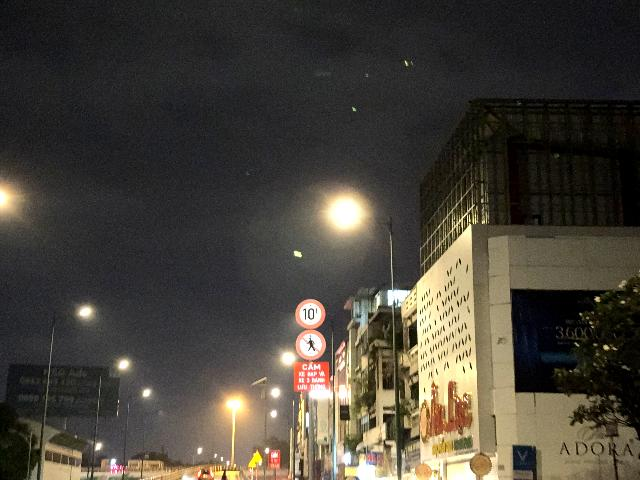cam-nguoi-di-bo: (296, 329, 326, 360)
han-che-trong-luong-xe: (295, 299, 325, 329)
